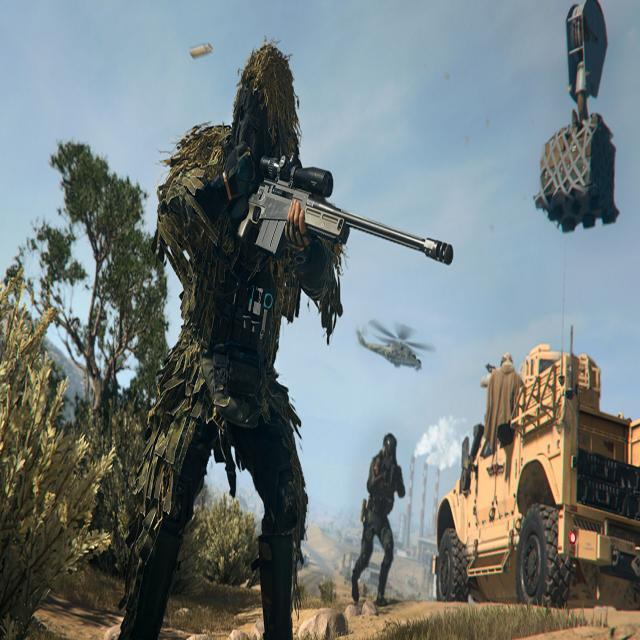scope: (259, 158, 376, 193)
sniper rifle: (229, 158, 460, 275)
